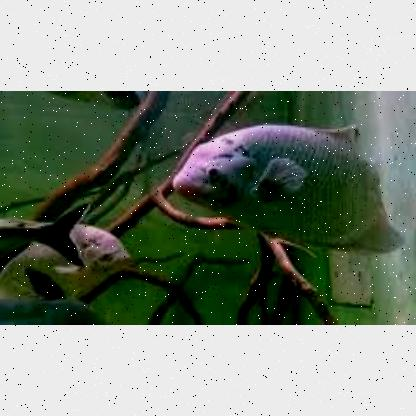gurame: (176, 120, 400, 248)
